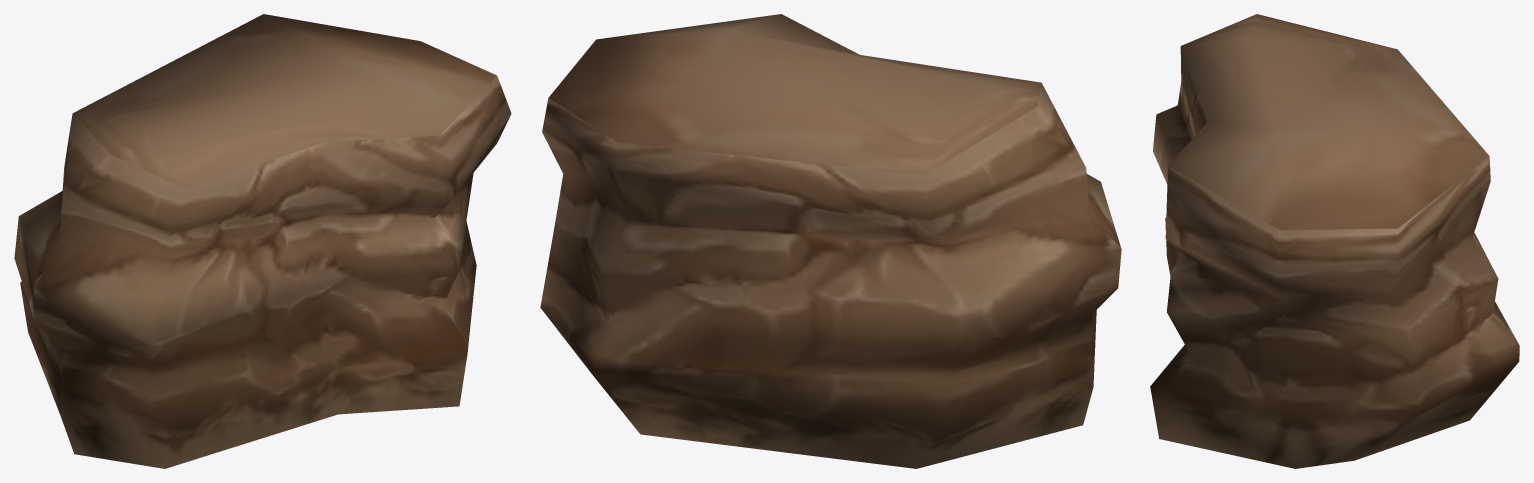
The model's file is FB_5_shanshi02.FBX.
The picture shows the model from 3 angles, left to right: view 1: azimuth 30°, elevation 25°; view 2: azimuth 150°, elevation 25°; view 3: azimuth 270°, elevation 25°; orthographic projection. The views are drawn at different scales.
Visible parts, largest first — view 1: shitou08; view 2: shitou08; view 3: shitou08.
Part boxes in pixels (x1=…): shitou08: x1=14, y1=14, x2=511, y2=468; shitou08: x1=540, y1=14, x2=1121, y2=468; shitou08: x1=1150, y1=14, x2=1519, y2=468.
Bounding box in the file's own units: 1773 × 1041 × 1187.
Materials: 1 (1 with a texture image).
